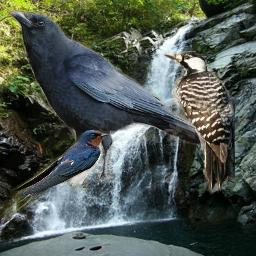Crow: (7, 10, 214, 185)
Swallow: (0, 130, 108, 220)
Woodpecker: (163, 51, 235, 195)
